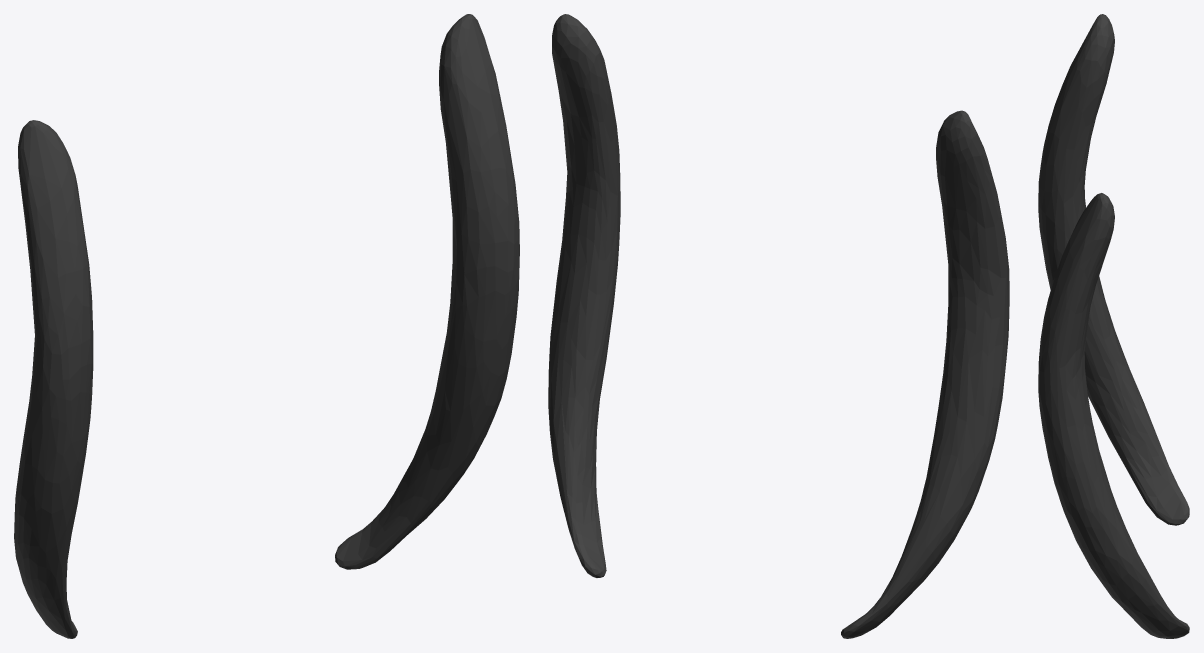
The model's file is m_quadriceps_rectus_femoris.glb.
3 views of the same model, side by side, from view 1: azimuth 30°, elevation 25°; view 2: azimuth 150°, elevation 25°; view 3: azimuth 270°, elevation 25° (orthographic). The views are drawn at different scales.
Visible parts, largest first — view 1: m_quadriceps_rectus_femoris; view 2: m_quadriceps_rectus_femoris; view 3: m_quadriceps_rectus_femoris.
Boxes of the visible parts, x1,y1,x2,y2 form: m_quadriceps_rectus_femoris: [14, 14, 519, 638]; m_quadriceps_rectus_femoris: [548, 14, 1009, 638]; m_quadriceps_rectus_femoris: [1038, 14, 1189, 638].
Bounding box in the file's own units: 0.00471 × 0.00526 × 0.00151.
1 material, 1 textured.
